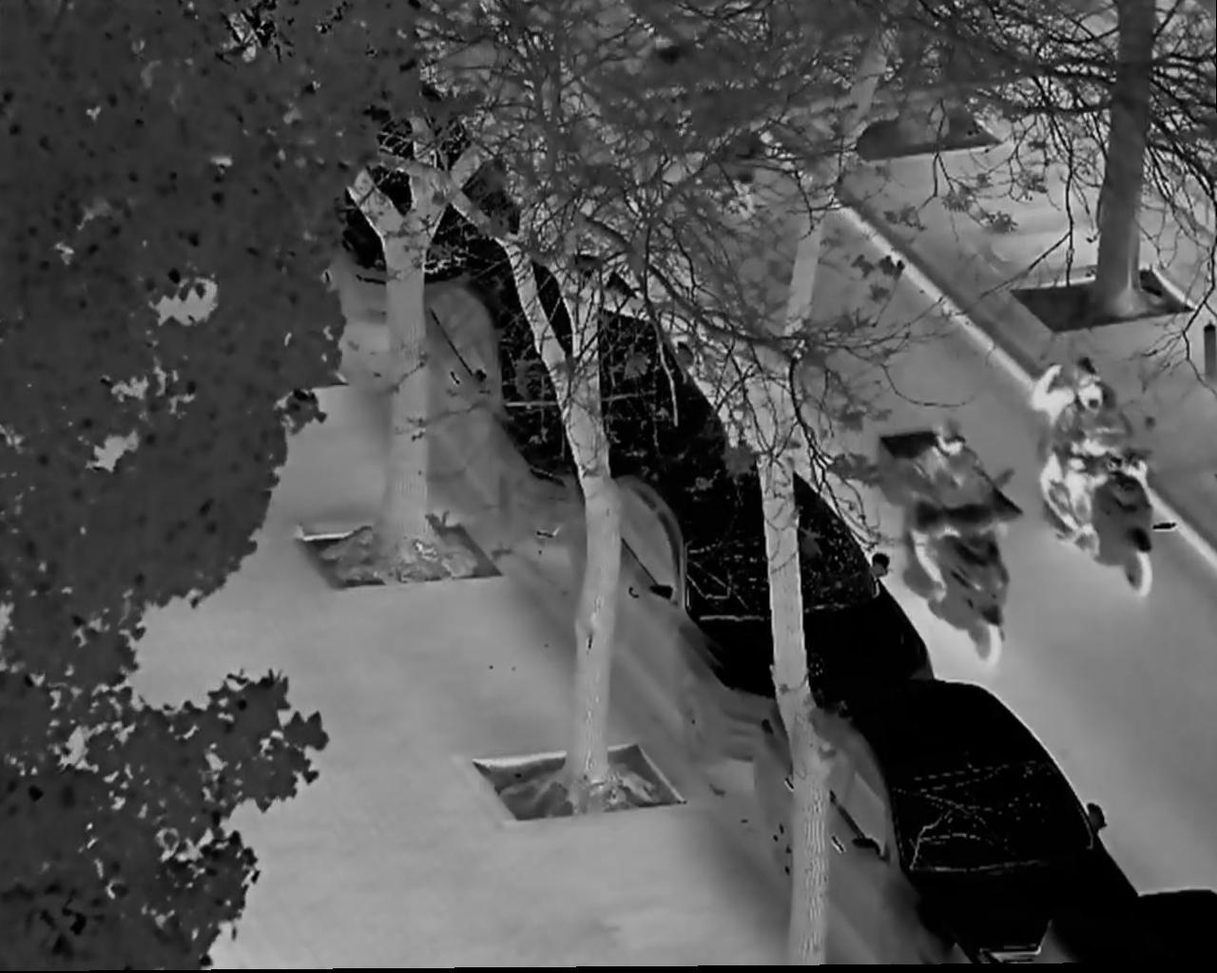person: (1036, 359, 1162, 537), (903, 412, 1009, 606)
